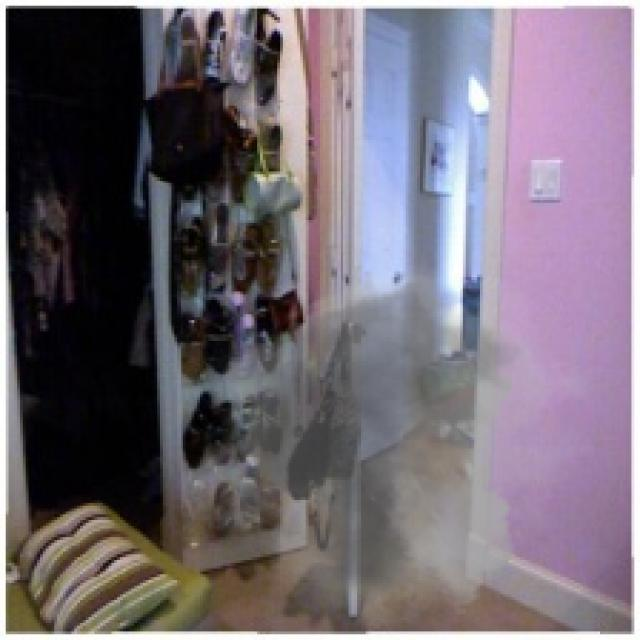smoke: (183, 252, 597, 628)
